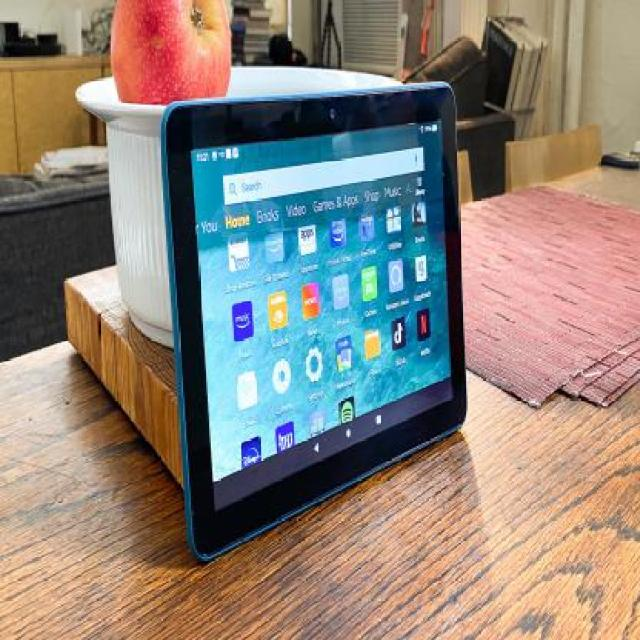tablet: (149, 77, 491, 541)
